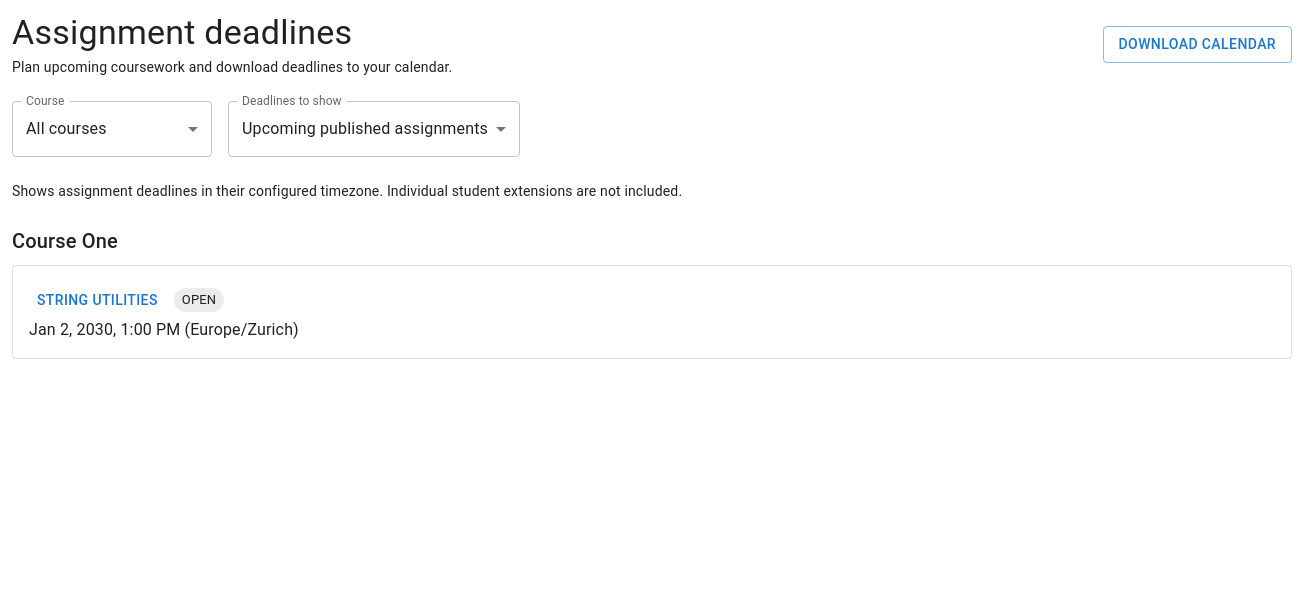
Scenario: deadline view groups published upcoming assignments and offers drafts only in the all view
Expected: the link "String utilities" is shown, [37,292,158,308]
Expected: the link "Draft assignment" is not shown
What coordinates should you click on to do the following:
click the dropdown named "Deadlines to show"
I would click on:
 (365, 129)
Its box is [242,119,488,138].
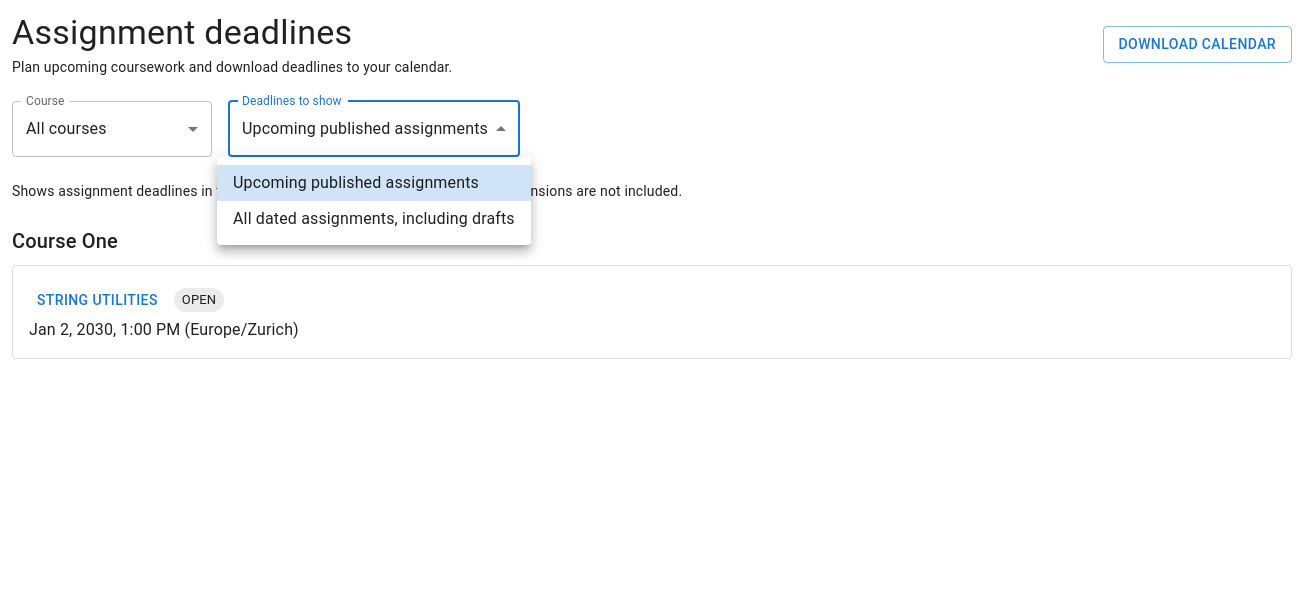
What coordinates should you click on to do the following:
click the option "All dated assignments, including drafts"
I would click on:
 (374, 218)
Its box is [233,209,515,228].
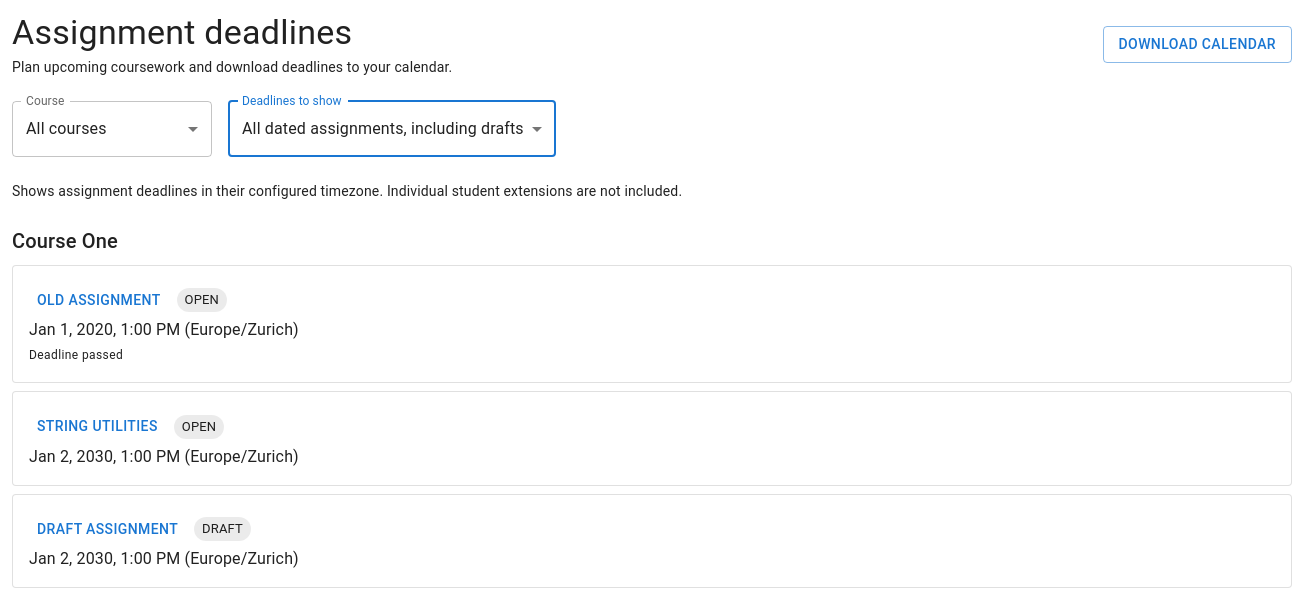
Expected: the link "Draft assignment" is shown, [37,521,178,537]
Expected: the link "Old assignment" is shown, [37,292,161,308]
